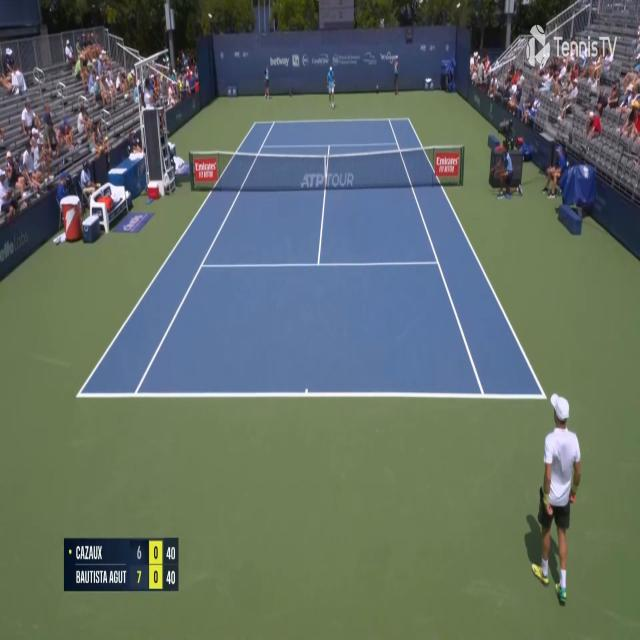tennis-player: (522, 391, 582, 605), (326, 60, 337, 108)
